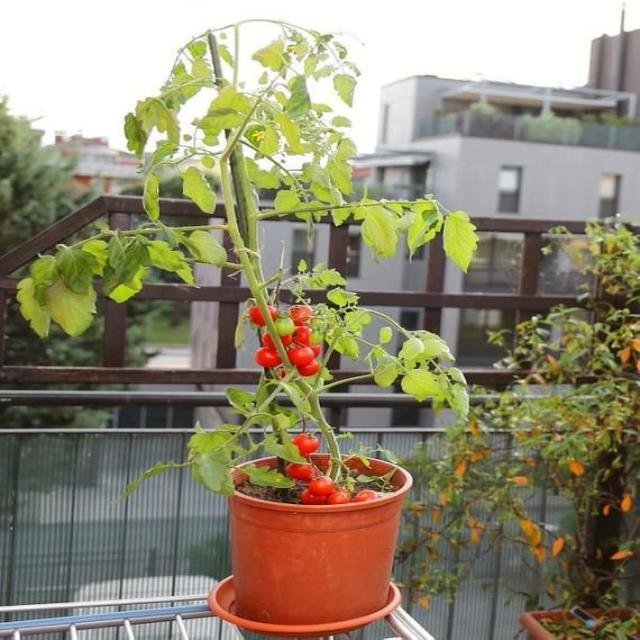level 2: (272, 317, 294, 335), (306, 331, 324, 346)
level 6: (286, 461, 318, 483), (254, 347, 284, 368), (286, 304, 313, 326), (293, 434, 320, 456), (288, 345, 314, 367), (250, 305, 278, 325), (262, 331, 292, 348), (310, 476, 334, 495), (352, 490, 376, 508), (301, 488, 327, 504), (297, 359, 319, 377), (328, 492, 350, 510), (300, 342, 321, 358)
